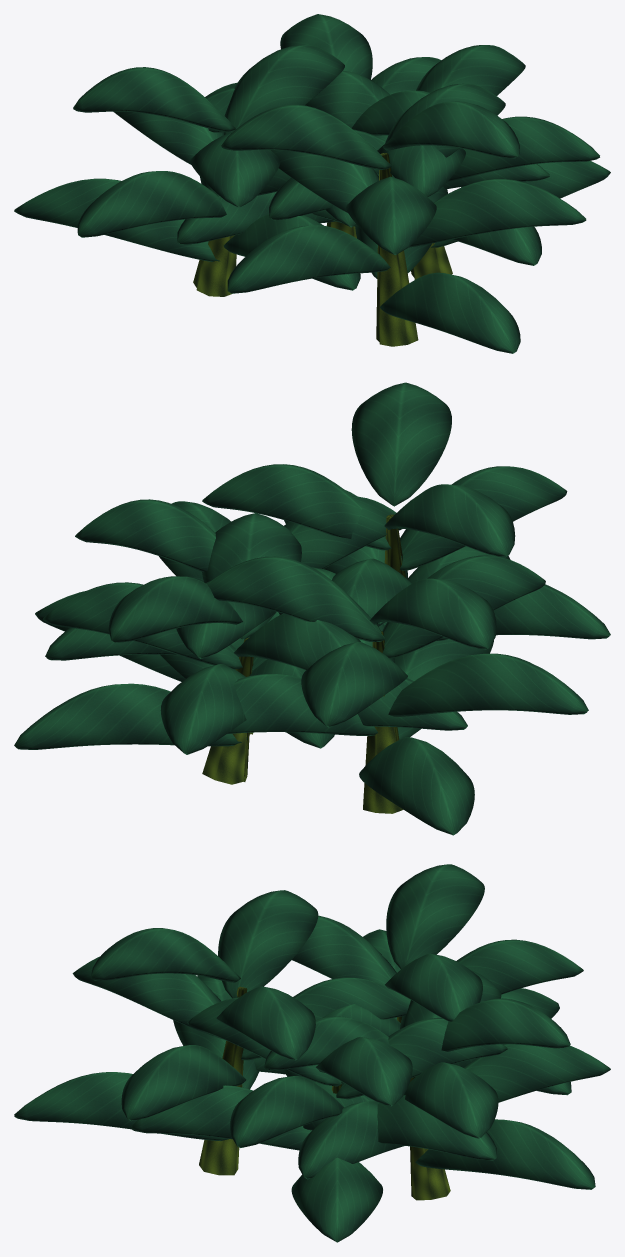
Rendered from low-jade-shrub.glb.
3 views of the same model, one above another, from view 1: azimuth 30°, elevation 25°; view 2: azimuth 150°, elevation 25°; view 3: azimuth 270°, elevation 25° (orthographic). The views are drawn at different scales.
Visible parts, largest first — view 1: low-jade-shrub_ground-jade, low-jade-shrub_ground-root; view 2: low-jade-shrub_ground-jade, low-jade-shrub_ground-root; view 3: low-jade-shrub_ground-jade, low-jade-shrub_ground-root.
Part boxes in pixels (x1=…): low-jade-shrub_ground-jade: x1=14, y1=14, x2=610, y2=353; low-jade-shrub_ground-root: x1=193, y1=153, x2=452, y2=346; low-jade-shrub_ground-jade: x1=14, y1=382, x2=610, y2=835; low-jade-shrub_ground-root: x1=202, y1=514, x2=405, y2=813; low-jade-shrub_ground-jade: x1=14, y1=864, x2=610, y2=1242; low-jade-shrub_ground-root: x1=199, y1=986, x2=450, y2=1200.
Bounding box in the file's own units: 1 × 0.4761 × 1.
2 materials, 2 textured.
